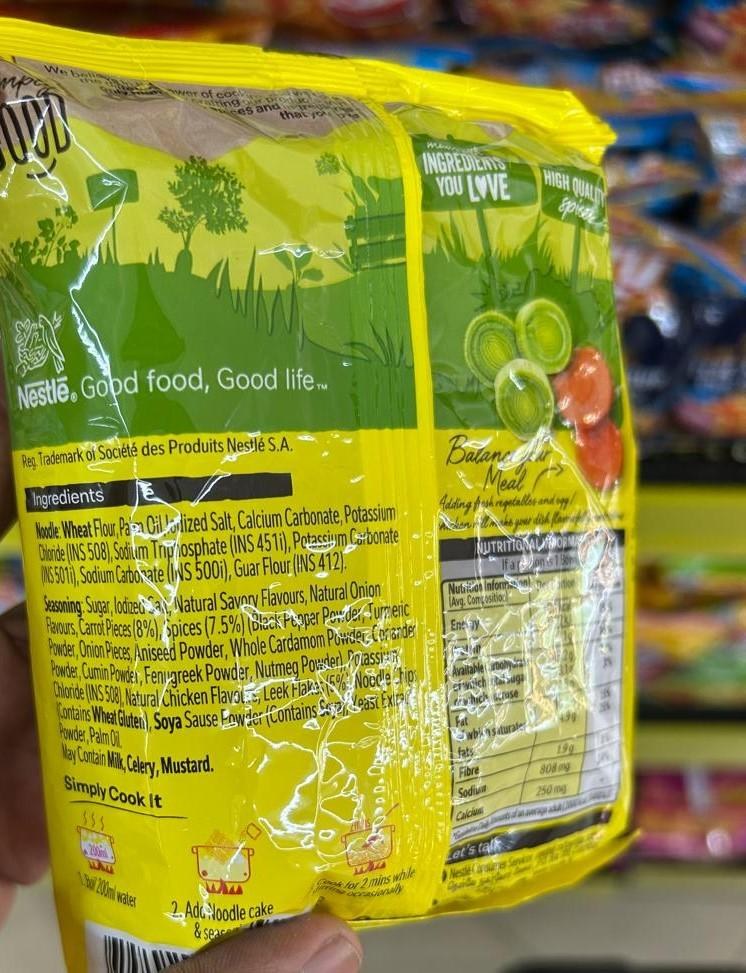ingredients: (17, 439, 433, 800)
